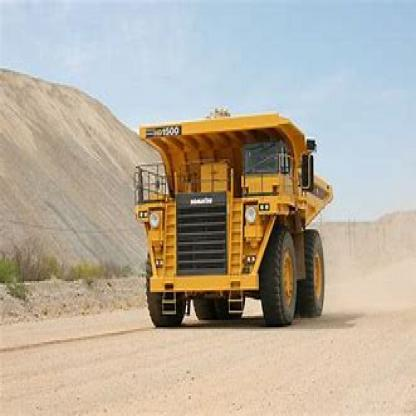dump_truck: (125, 83, 336, 327)
